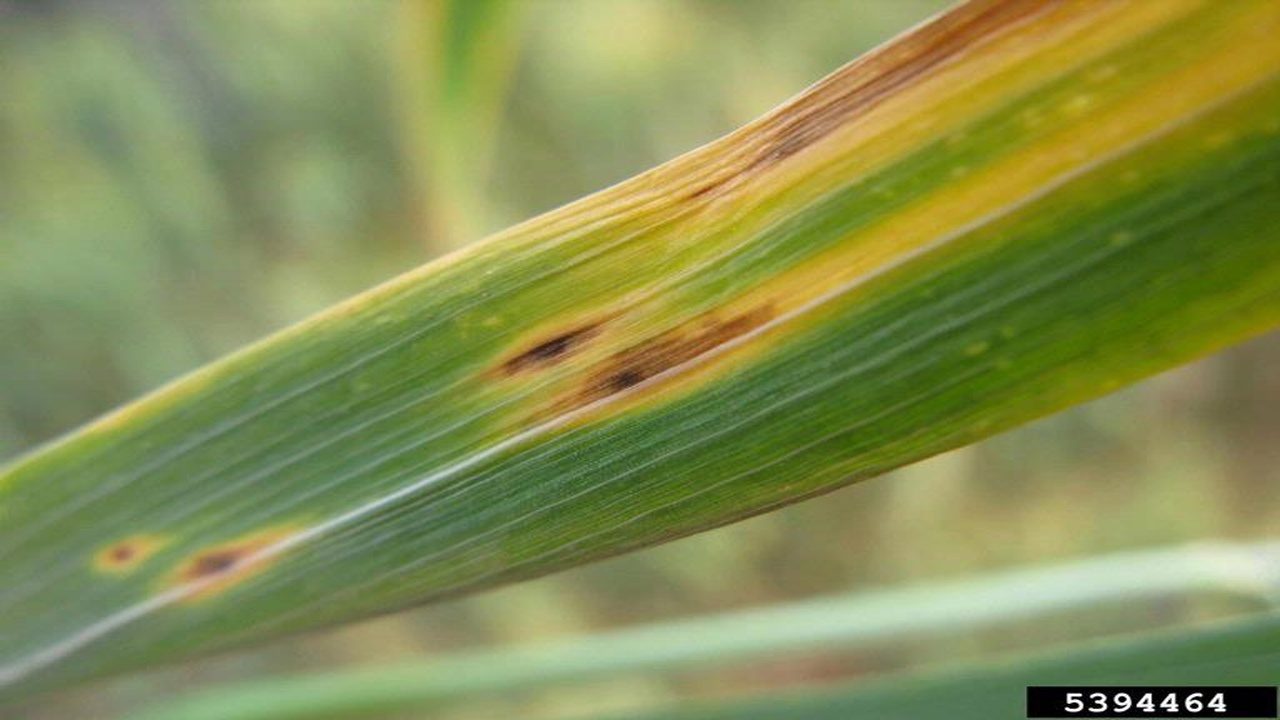tan_spot: (1, 1, 1278, 682)
